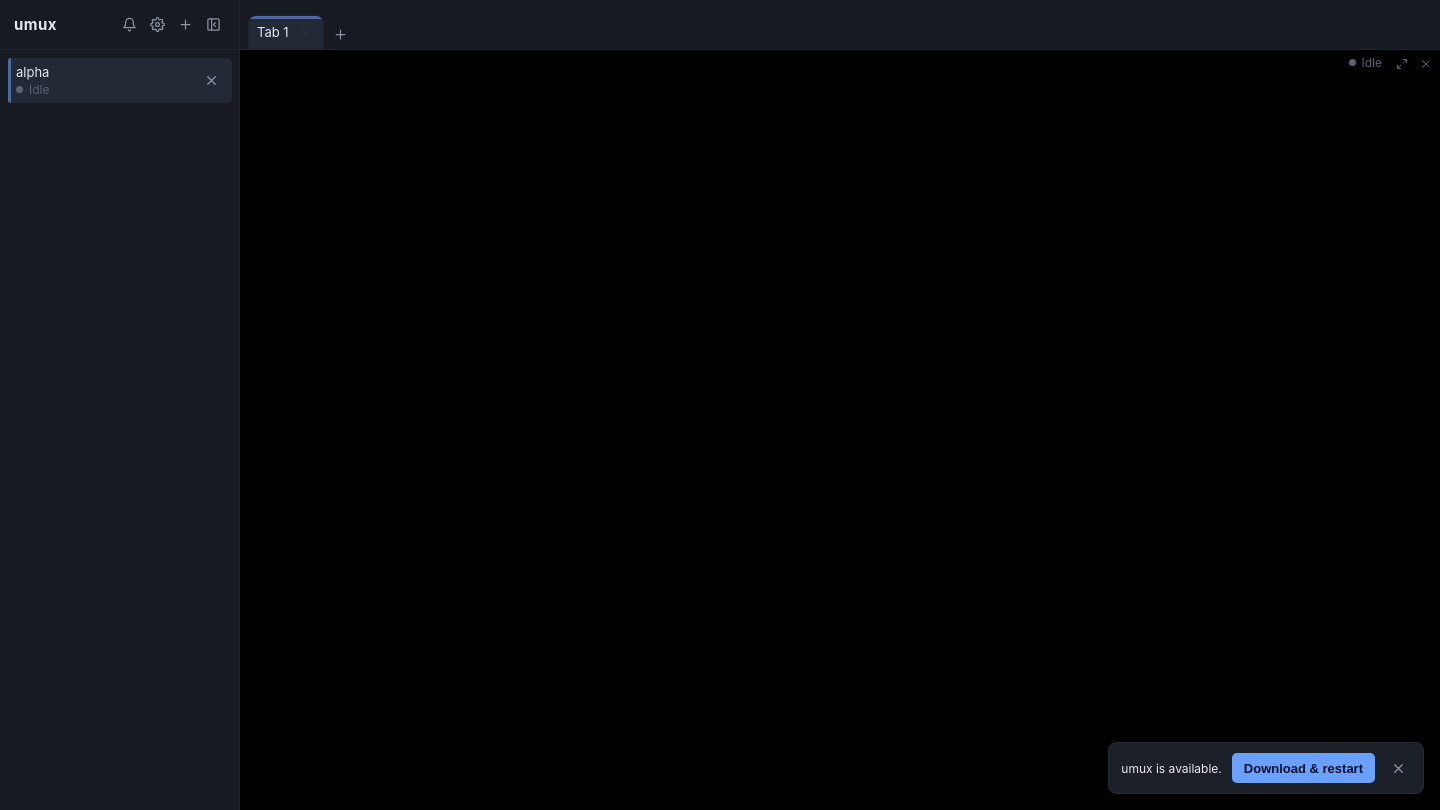
WorkspaceShell › opens the workspace menu on a right-button mousedown (trackpad two-finger click)
This screenshot has width=1440, height=810.
Expected: the text "alpha" is shown, [16,64,49,80]
Press the mouse on the list item with test id "workspace-row-ws-1" at (120, 80), box [8,58,232,103]
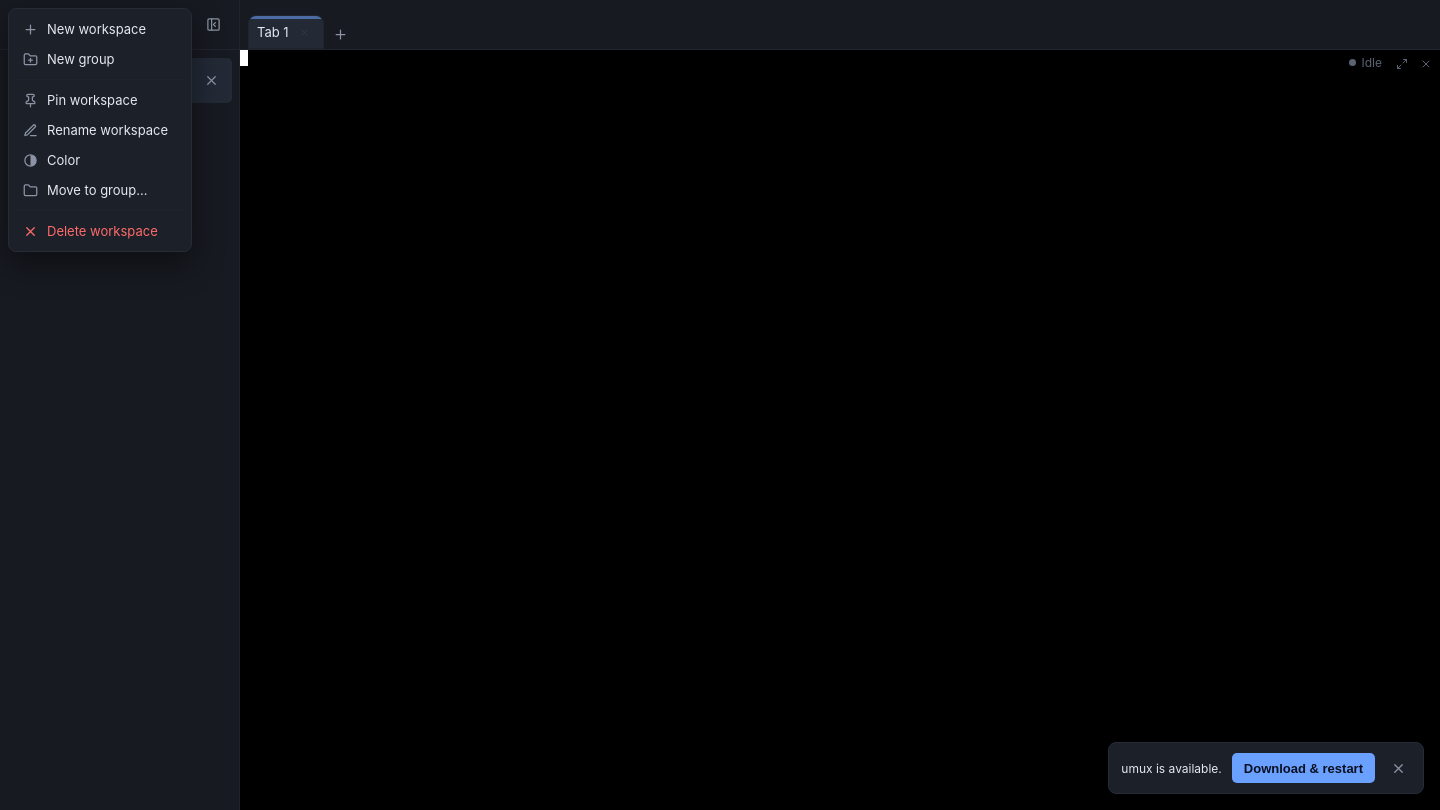
Now the menu item "New workspace" is shown, box [14,14,186,44]
